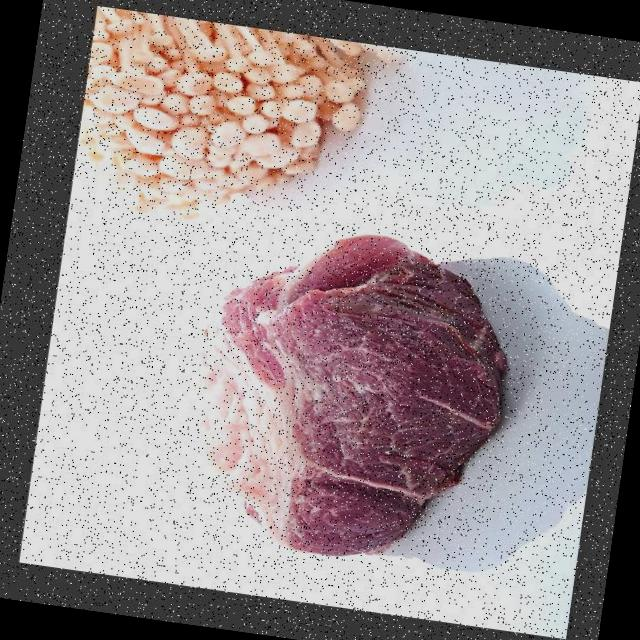pork: (164, 213, 526, 594)
